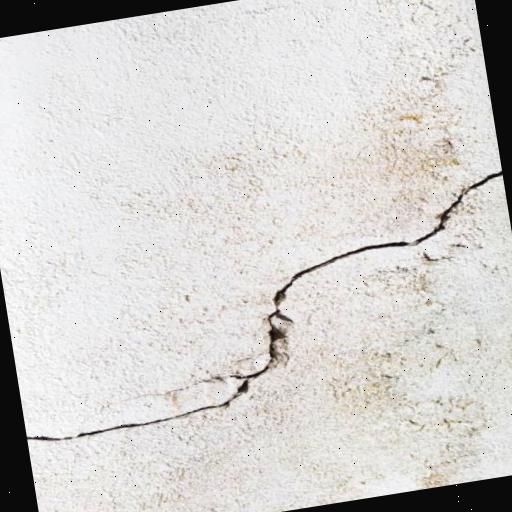spalling: (28, 162, 499, 446)
